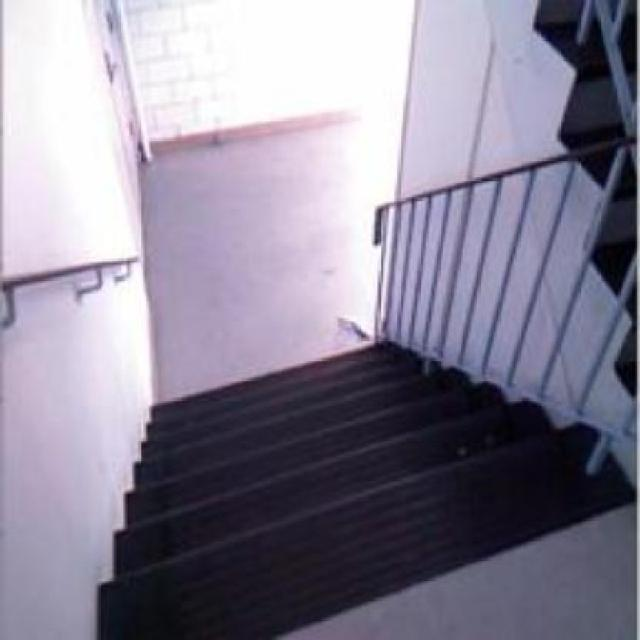stair: (109, 330, 588, 624)
